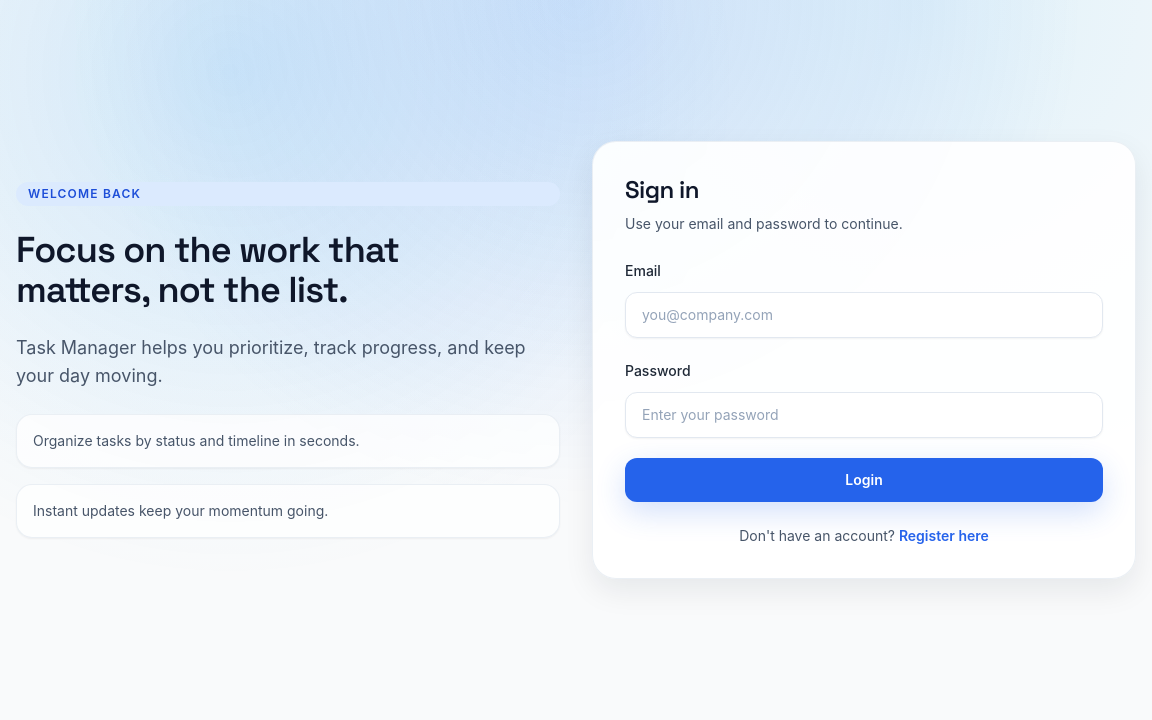
Login Component › should show error for invalid email
In the field with placeholder "you@company.com": (864, 315) [625, 292, 1103, 338], type "invalid-email"
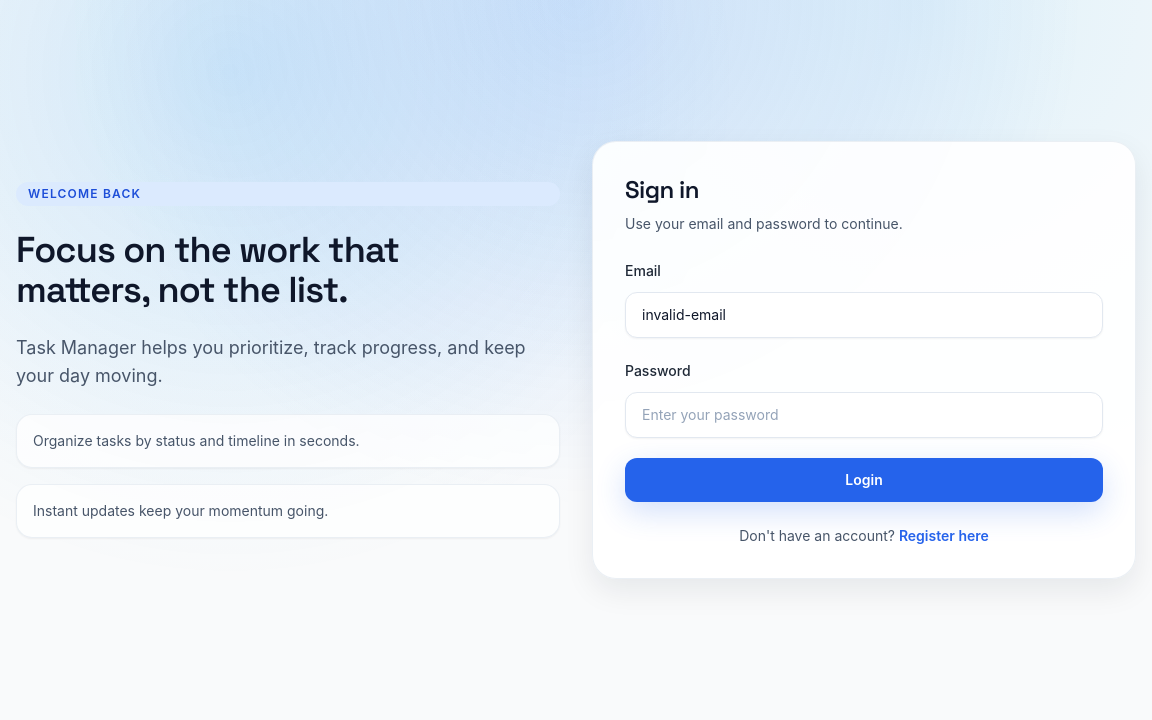
In the password field with placeholder "Enter your password": (864, 415) [625, 392, 1103, 438], type "password123"
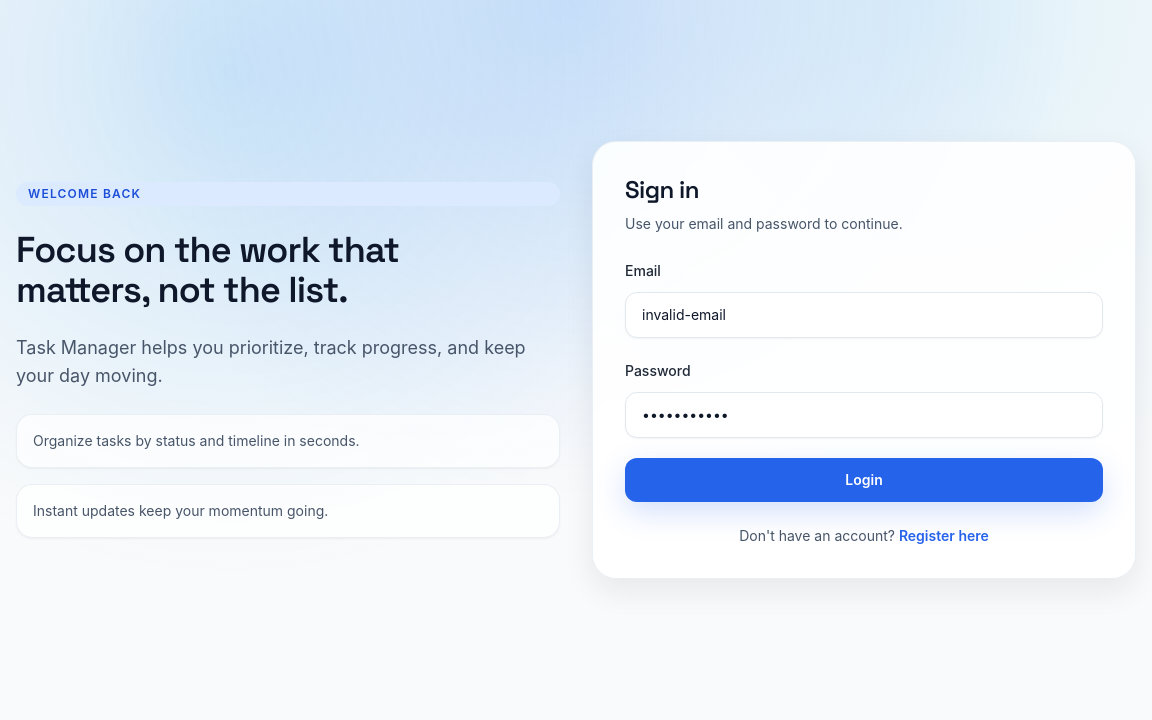
Click the button "Login": (864, 480) [625, 458, 1103, 502]
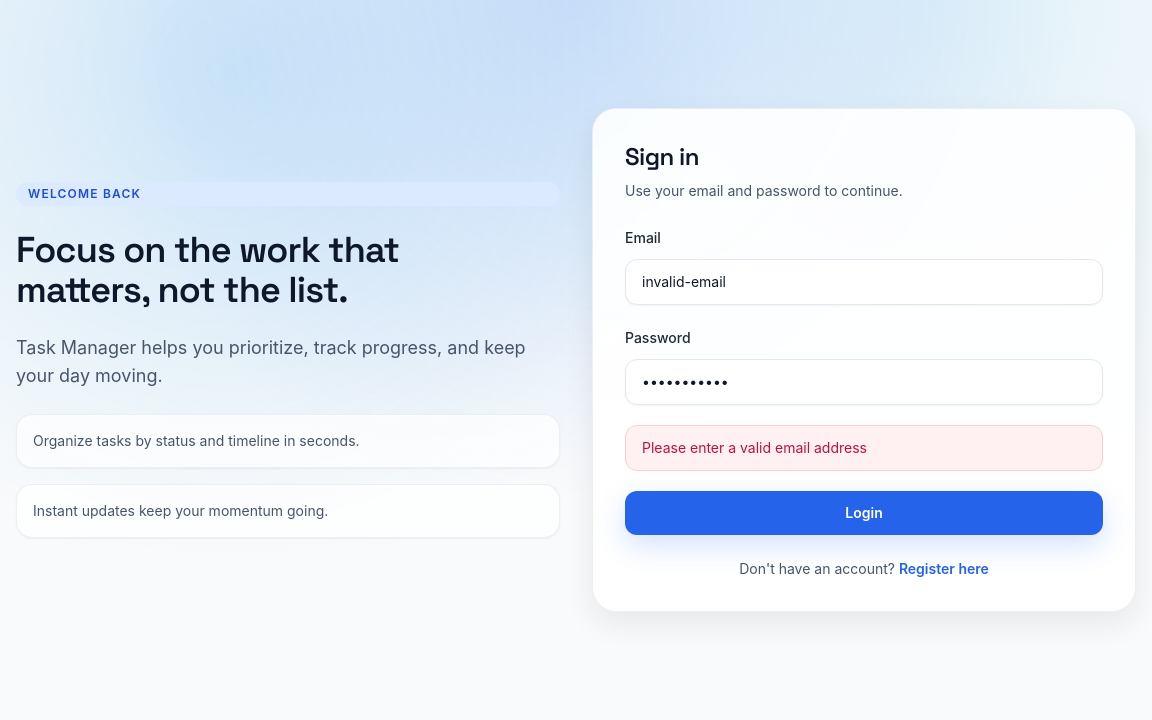
Expected: the text "Please enter a valid email address" is shown, [625, 425, 1103, 471]
